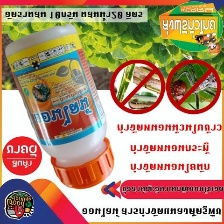insecticide: (3, 23, 117, 195)
